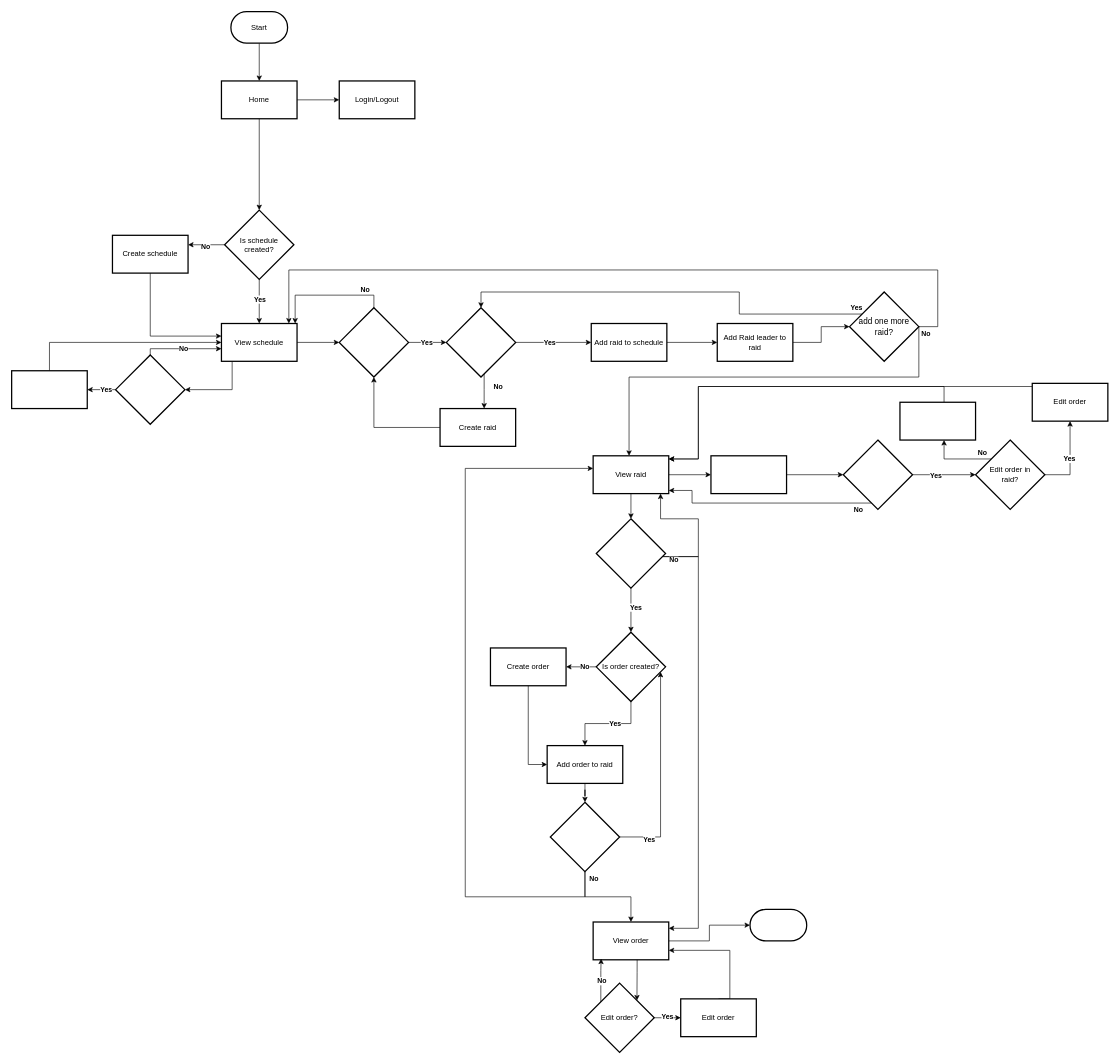
This 1119x1063 diagram has some shape labels left out. The centre of each missing label's shape, as x and y in pixels:
"Add one more?" goes at (x=584, y=836).
"Add order to raid?" goes at (x=630, y=553).
"Add raid to schedule?" goes at (x=373, y=342).
"Edit raid" goes at (x=937, y=420).
"Edit raid?" goes at (x=877, y=474).
"Edit schedule" goes at (x=49, y=389).
"Edit schedule?" goes at (x=150, y=389).
"End" goes at (x=778, y=924).
"Is raid created?" goes at (x=480, y=342).
"Start raid" goes at (x=748, y=474).
